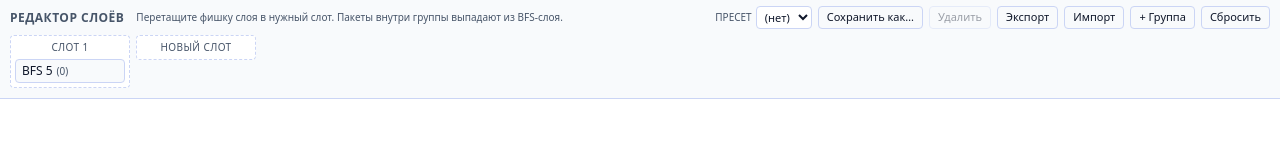
Scenario: <LayerEditorBar /> › reset button restores default state
Click the button with test id "layer-editor-reset".
click(1235, 18)  # box [1201, 6, 1270, 29]
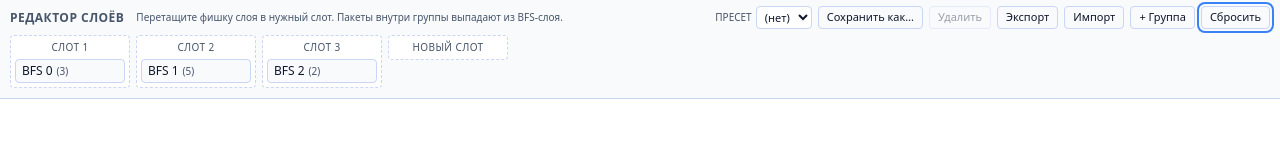
Expected: the element with test id "layer-editor-chip-bfs:0" is shown, [15, 59, 125, 83]
